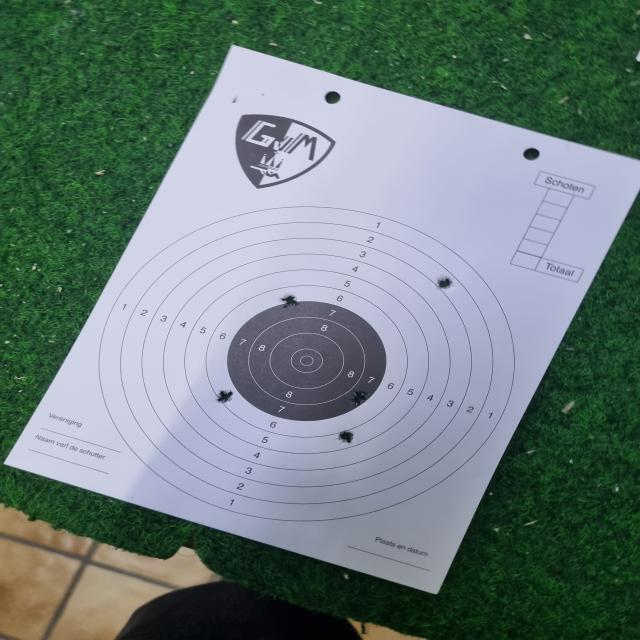4: (436, 277, 454, 290)
7: (338, 430, 356, 443), (216, 391, 233, 404)
8: (352, 391, 369, 406), (280, 294, 299, 307)
Black Contour: (227, 299, 389, 422)
Target: (98, 205, 516, 521)
